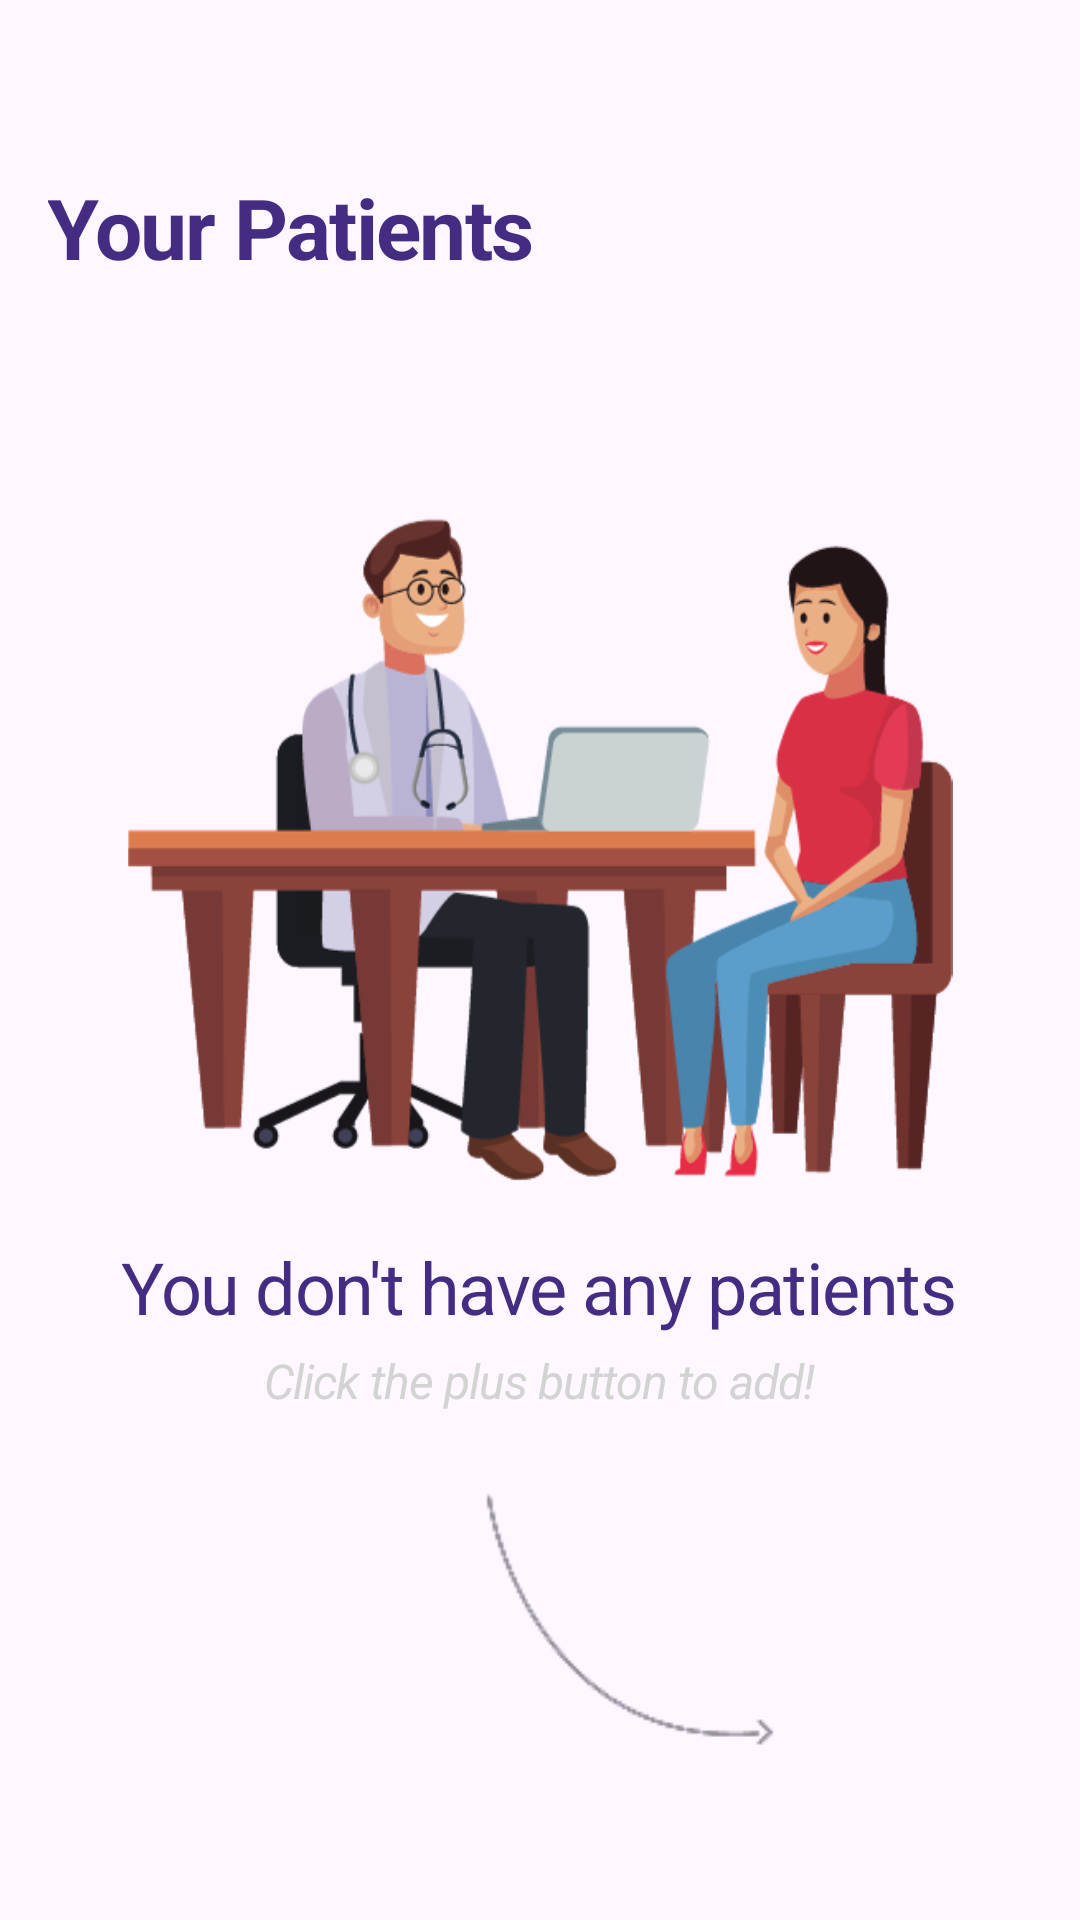

Locate icon controls on the screen. Image size 1080x1920, boxes as box(x1, y1, x2, y2).
arrow: box(486, 1494, 773, 1745)
